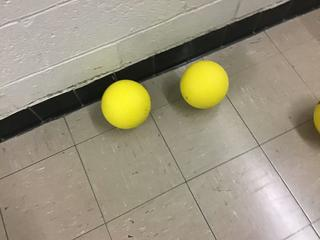power_cell: (91, 76, 158, 132), (177, 54, 232, 115)
